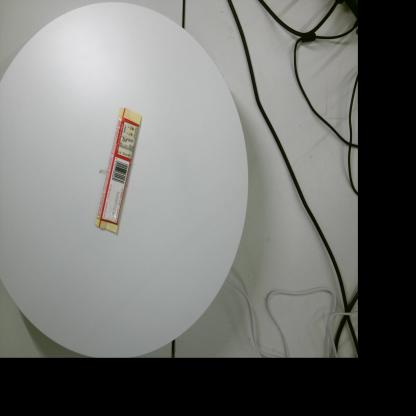Chocolate: (94, 107, 142, 233)
